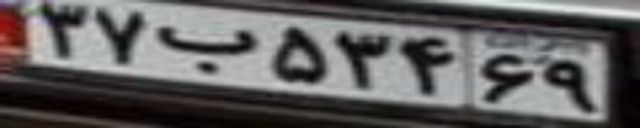3: (335, 31, 389, 88), (39, 2, 88, 58)
4: (400, 36, 458, 96)
5: (269, 26, 328, 83)
6: (478, 52, 533, 103)
7: (94, 7, 145, 63)
9: (542, 59, 595, 114)
be: (156, 24, 258, 74)
